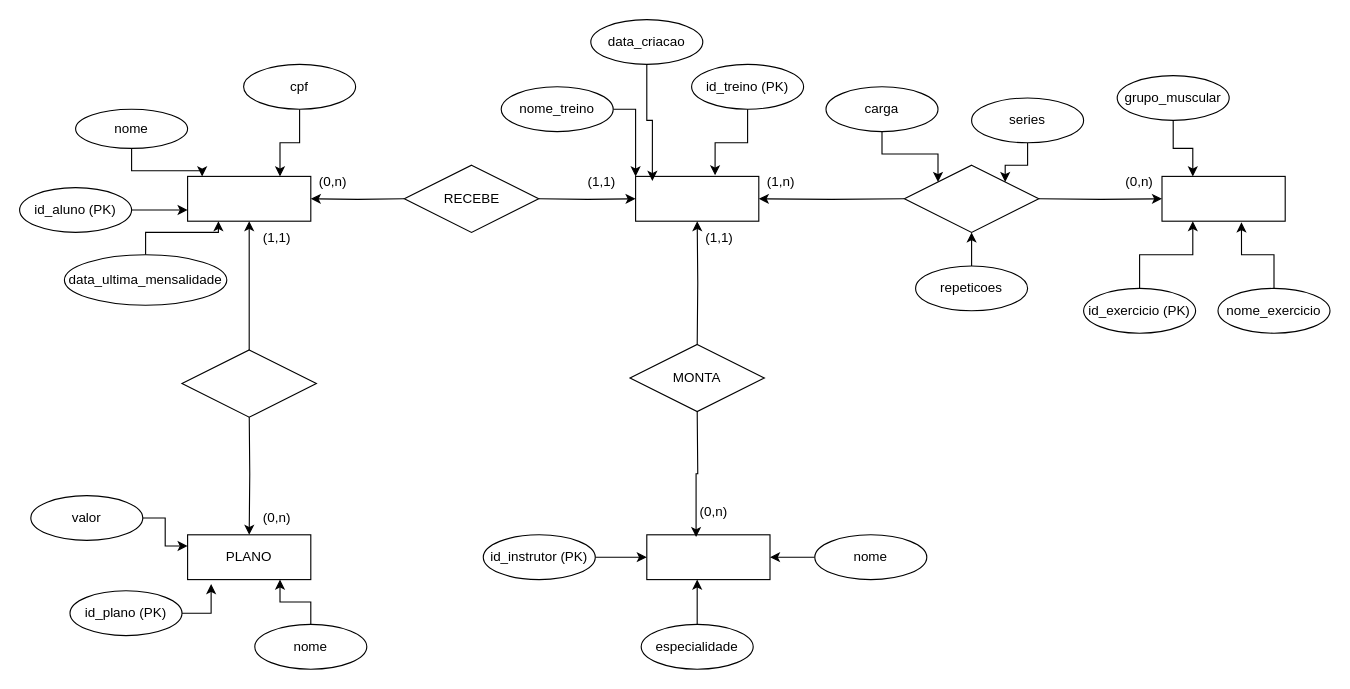
Image size: 1350x689. Some labels were removed from this diagram. Each missing label, with the centre of its shape:
ALUNO: the point at 248,198
CONTÉM: the point at 971,198
EXERCICIO: the point at 1223,198
INSTRUTOR: the point at 708,557
POSSUI: the point at 248,383
TREINO: the point at 696,198
